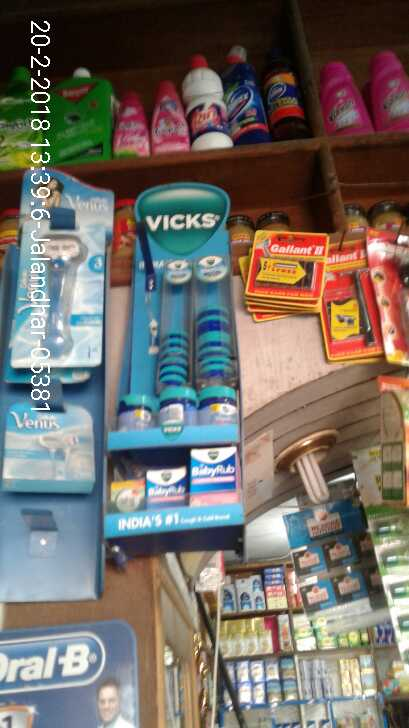beauty: (3, 397, 96, 496)
pharmacy: (185, 446, 242, 511), (146, 462, 186, 517), (111, 389, 153, 440), (158, 384, 195, 434), (199, 384, 236, 429), (194, 297, 230, 331)
